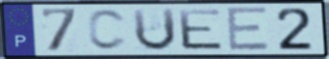2: (276, 6, 316, 52)
7: (40, 7, 79, 54)
C: (86, 7, 130, 52)
E: (224, 5, 272, 53), (176, 8, 226, 51)
U: (130, 7, 178, 53)
